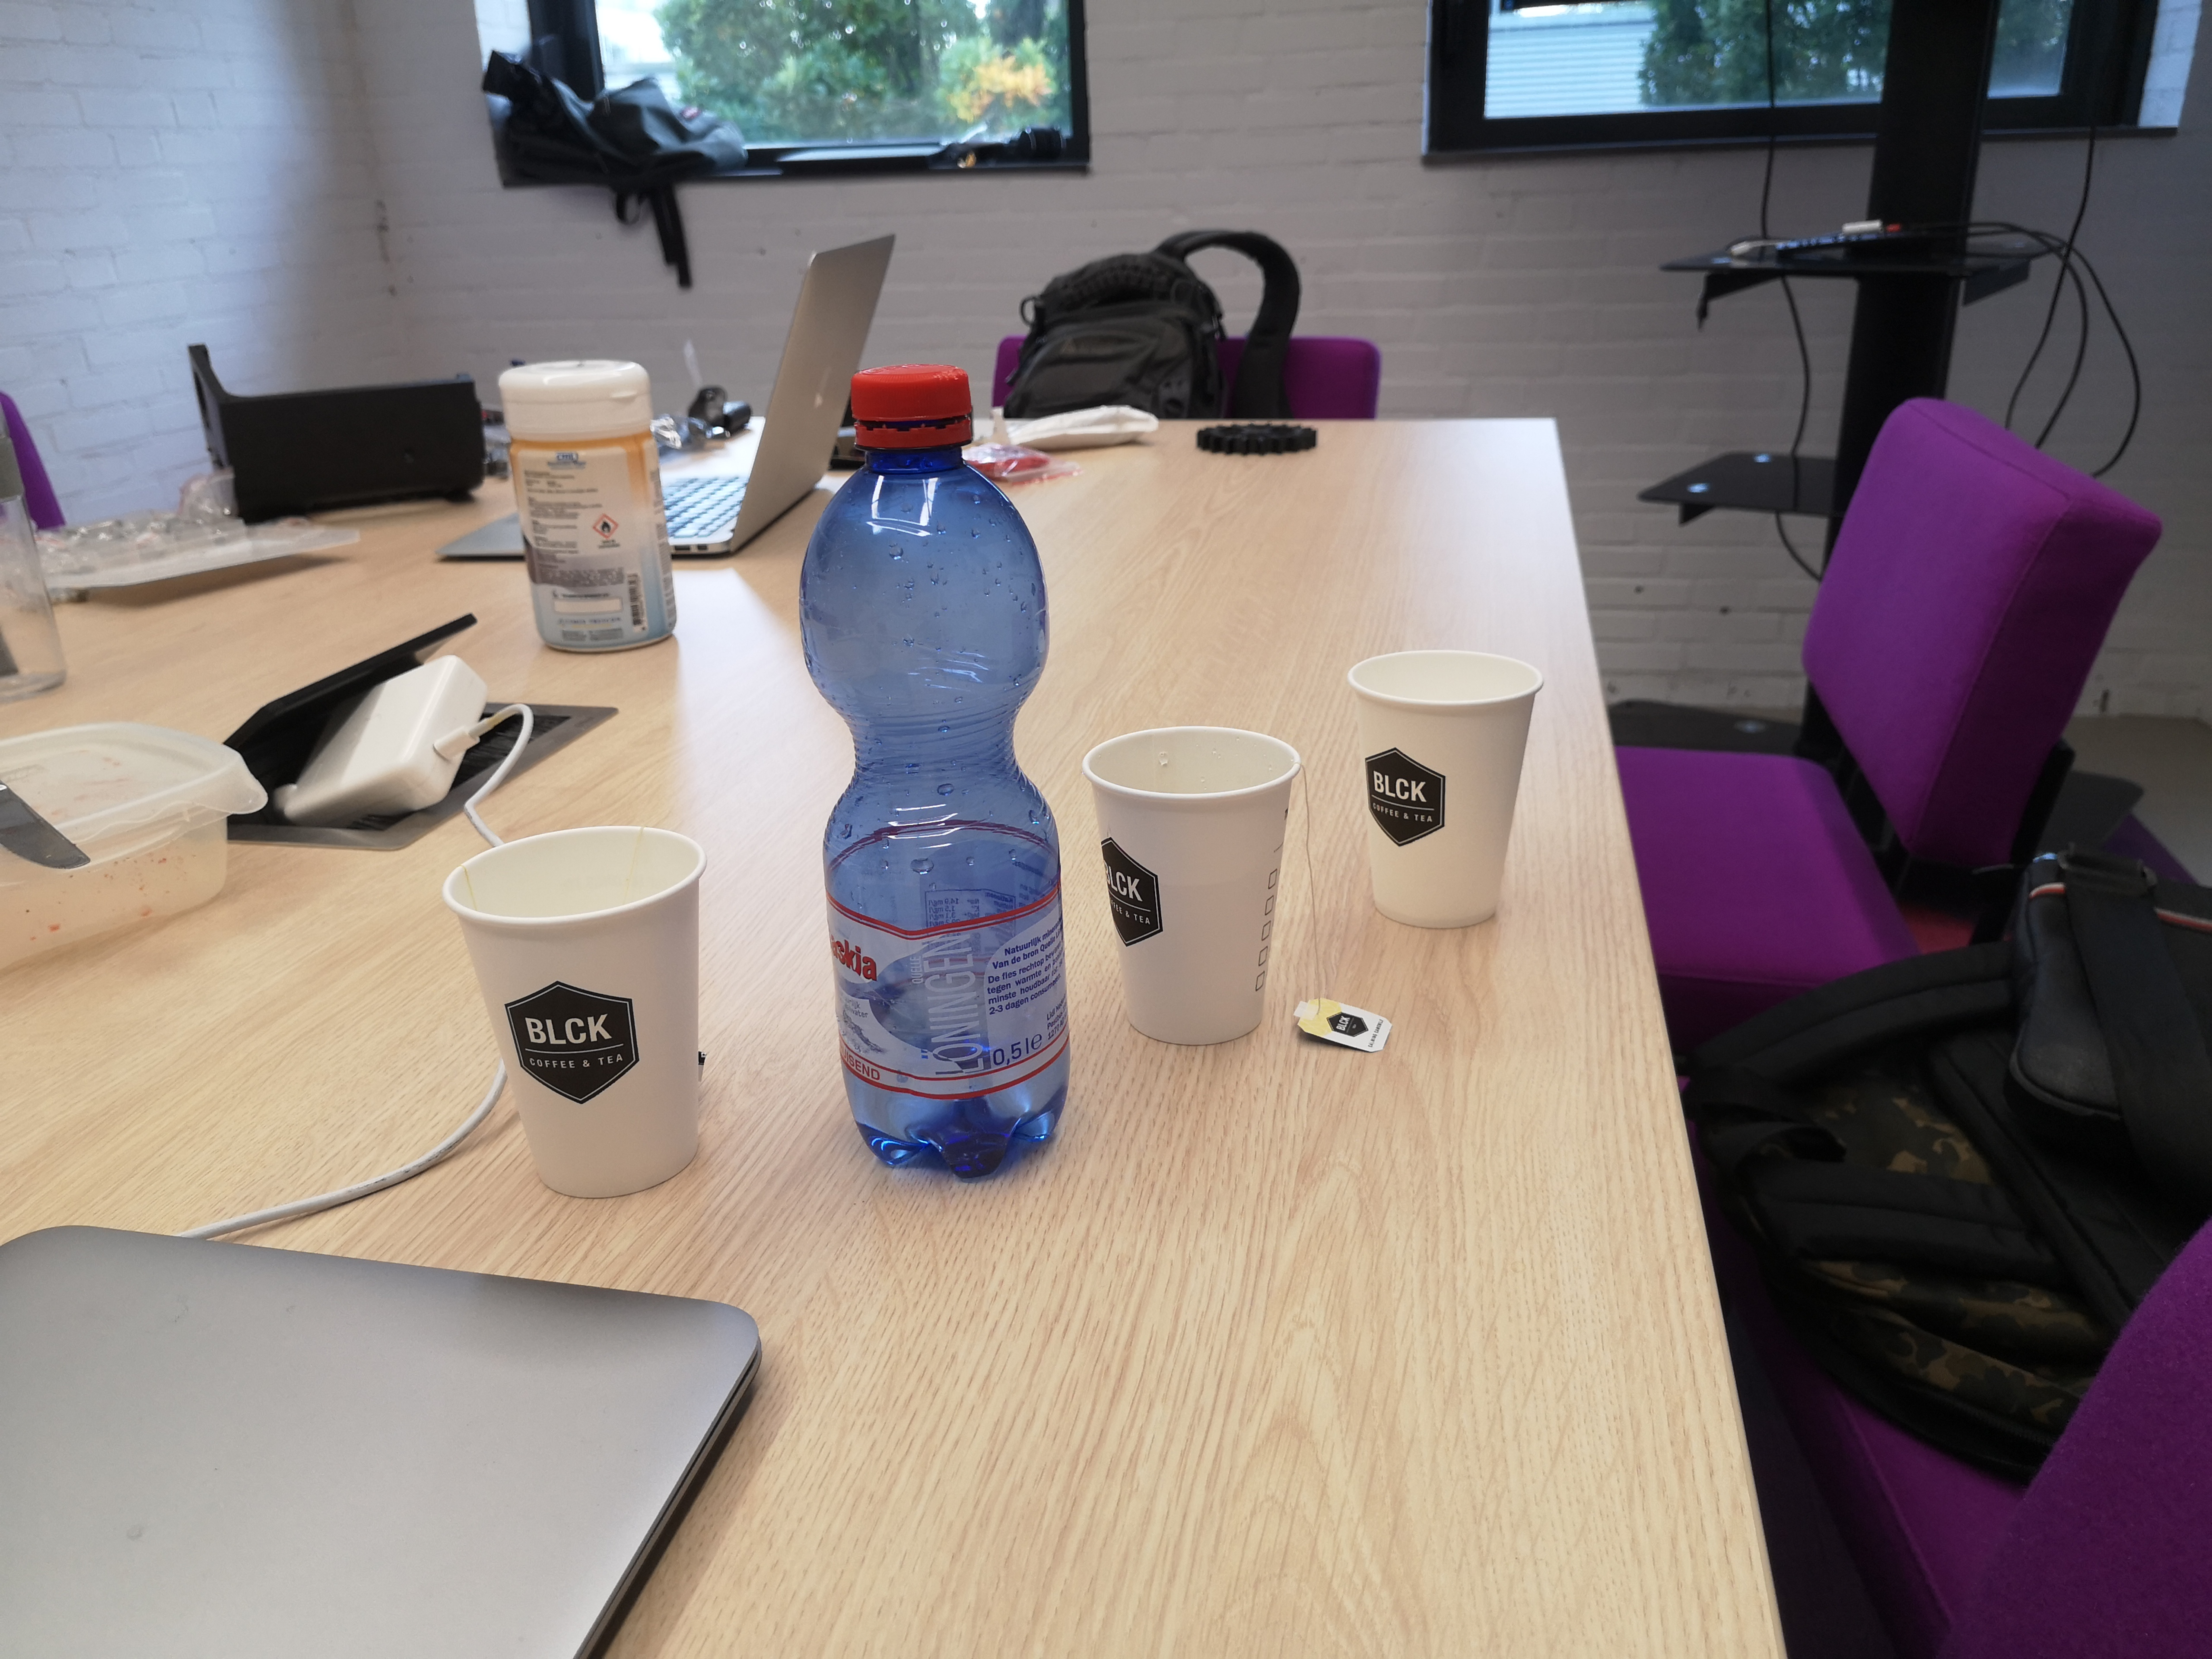cup: (418, 810, 738, 1216), (1071, 711, 1320, 1066), (1338, 629, 1555, 945)
plastic_bottle: (758, 354, 1109, 1208)
